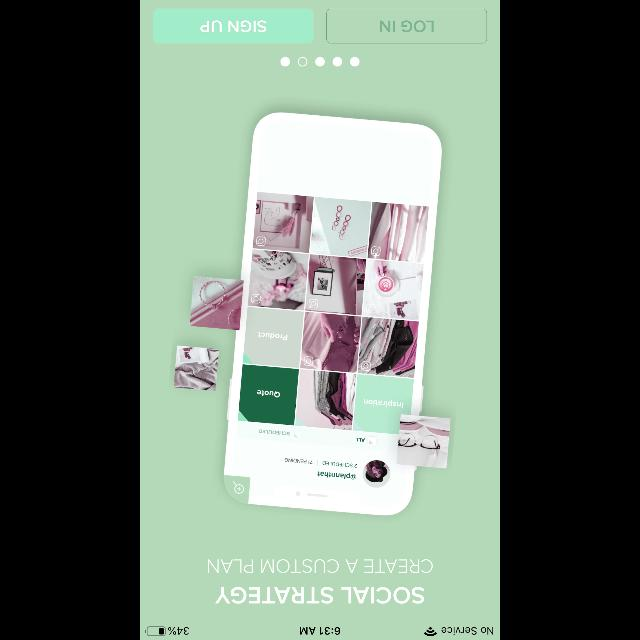backgroundimage: (140, 1, 500, 640)
image: (174, 112, 450, 516)
pageindicator: (280, 58, 360, 66)
text: (216, 587, 424, 603), (208, 560, 432, 572)
textbutton: (153, 9, 313, 43), (327, 9, 487, 43)
uppertaskbar: (140, 626, 500, 640)
